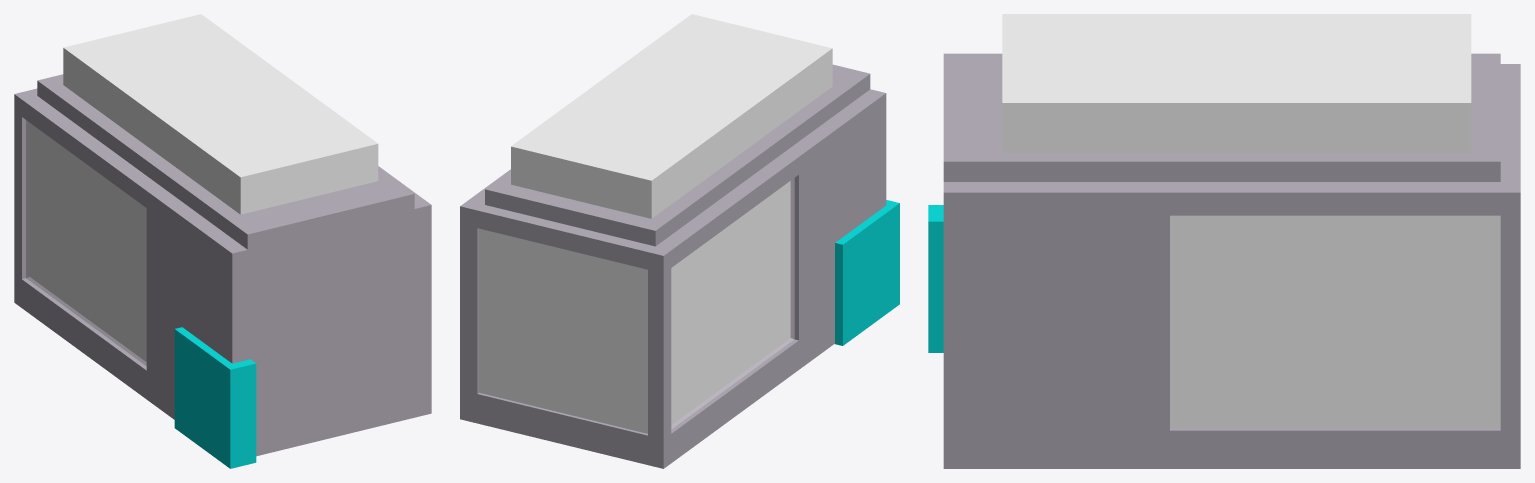
Rendered from town1.fbx.
3 renders of one model, left to right at view 1: azimuth 30°, elevation 25°; view 2: azimuth 150°, elevation 25°; view 3: azimuth 270°, elevation 25°, orthographic. The views are drawn at different scales.
Visible parts, largest first — view 1: pCube22, pCube45, pCube41, pCube46; view 2: pCube22, pCube45, pCube40, pCube41, pCube46; view 3: pCube22, pCube42, pCube45, pCube46.
Part boxes in pixels (left/top/right/bottom): pCube22: left=14, top=74, right=431, bottom=456; pCube45: left=63, top=14, right=378, bottom=214; pCube41: left=29, top=123, right=146, bottom=361; pCube46: left=174, top=327, right=256, bottom=468; pCube22: left=460, top=64, right=886, bottom=468; pCube45: left=511, top=14, right=832, bottom=218; pCube40: left=479, top=228, right=647, bottom=433; pCube41: left=671, top=181, right=790, bottom=424; pCube46: left=835, top=200, right=899, bottom=345; pCube22: left=943, top=53, right=1520, bottom=468; pCube42: left=1170, top=215, right=1500, bottom=427; pCube45: left=1002, top=14, right=1471, bottom=152; pCube46: left=928, top=205, right=943, bottom=352.
Bounding box in the file's own units: 5.44 × 6.58 × 10.18.
